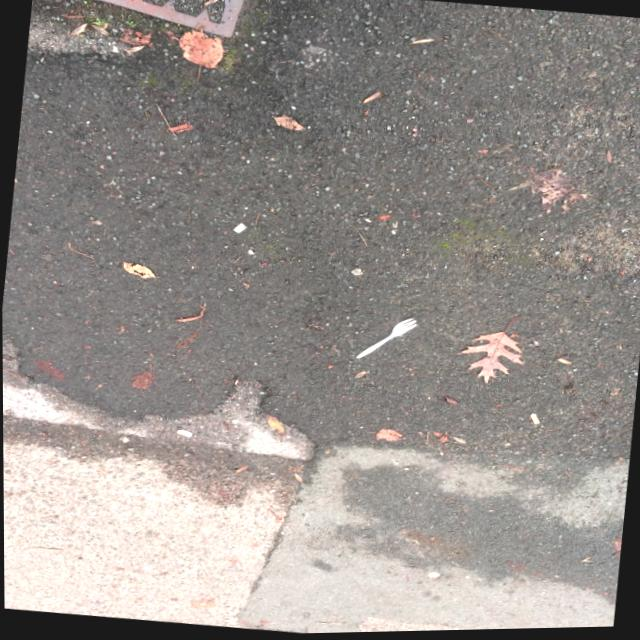Plastic: (352, 310, 420, 368)
